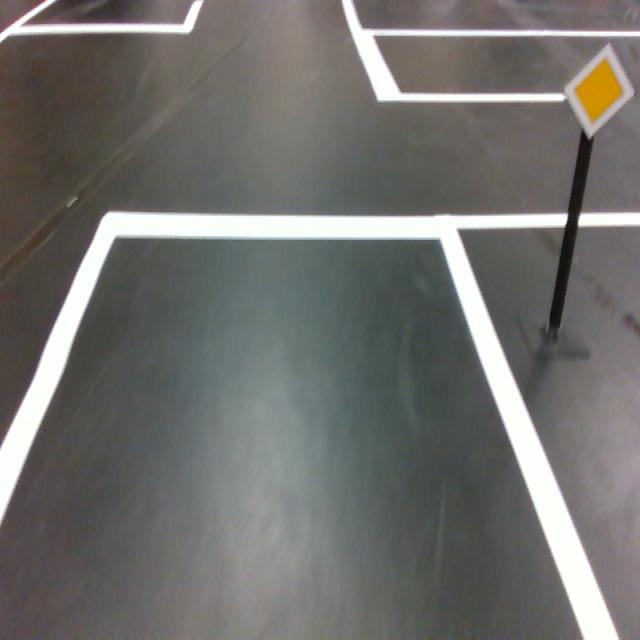priority-sign: (561, 41, 636, 141)
